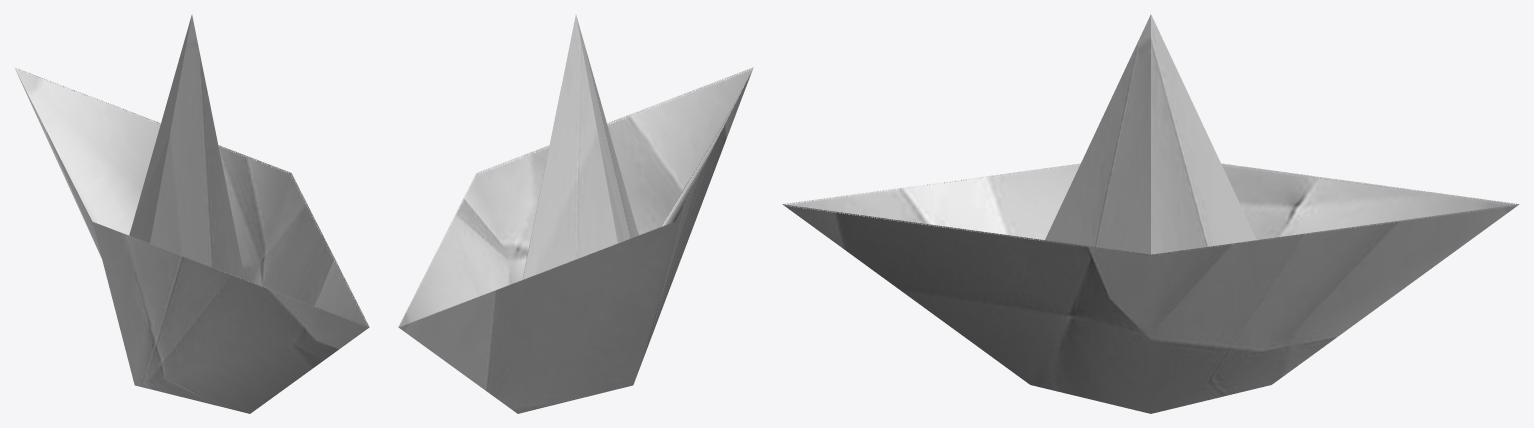
Rendered from Paperboat.FBX.
3 views of the same model, side by side, from view 1: azimuth 30°, elevation 25°; view 2: azimuth 150°, elevation 25°; view 3: azimuth 270°, elevation 25° (orthographic). The views are drawn at different scales.
Parts seen in each view (by area): view 1: Paperboat; view 2: Paperboat; view 3: Paperboat.
Part boxes in pixels (<box>): Paperboat: <box>14,15,369,413</box>; Paperboat: <box>398,15,753,413</box>; Paperboat: <box>782,14,1519,413</box>.
Size of the model in its own units: 7.26 by 12.44 by 22.43.
1 material, 1 textured.
